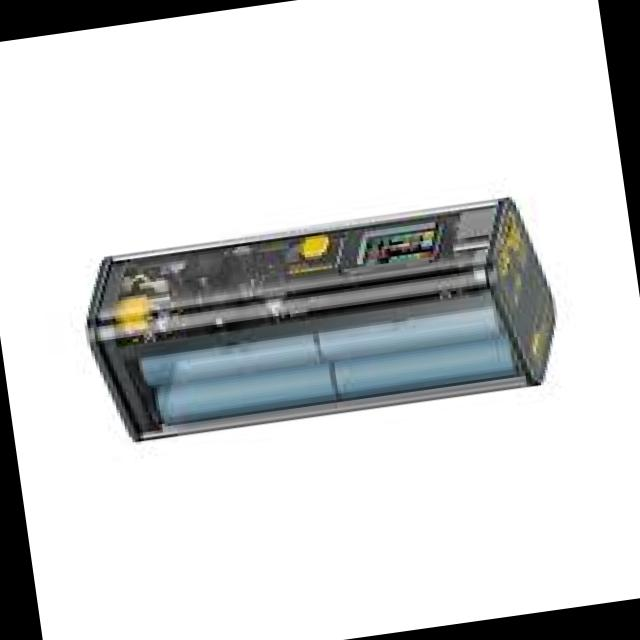portable-charger: (76, 178, 575, 469)
